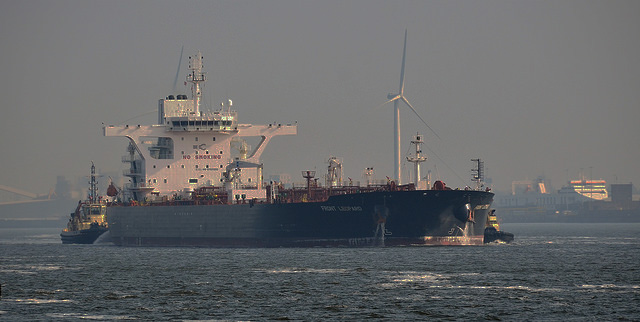tanker: (109, 53, 498, 248)
tug_boat: (60, 166, 112, 239)
